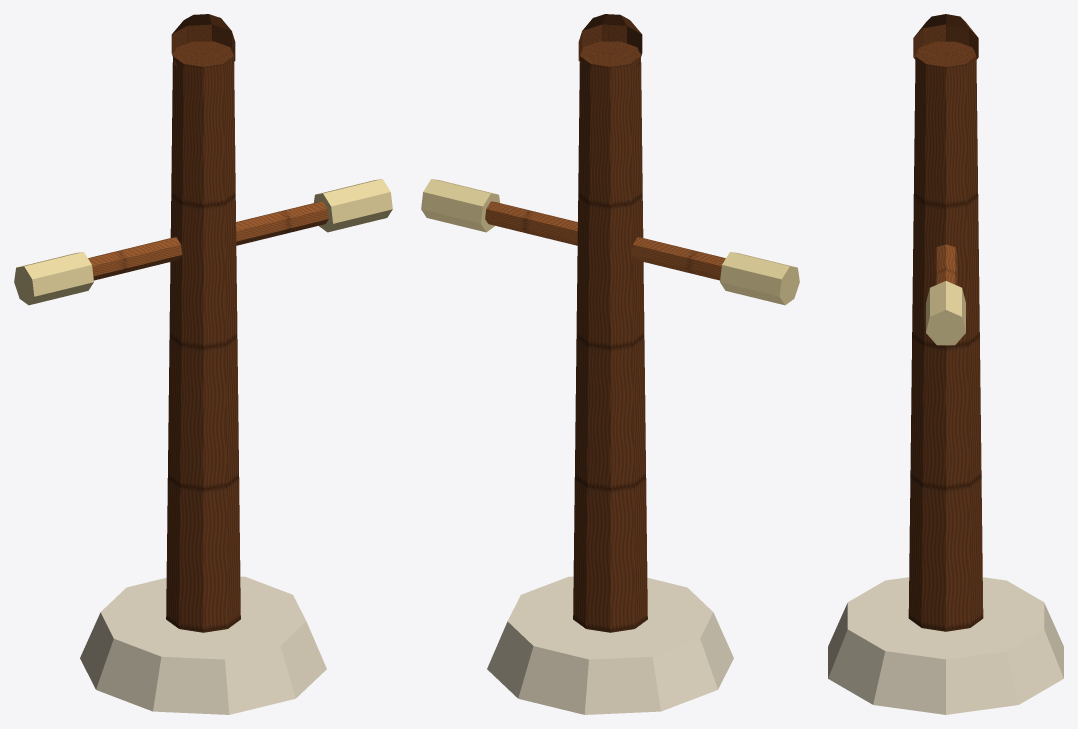
Rendered from legendary-warriors-kit-pell-training-post-fa6e13c9__39217.glb.
The picture shows the model from 3 angles, left to right: view 1: azimuth 30°, elevation 25°; view 2: azimuth 150°, elevation 25°; view 3: azimuth 270°, elevation 25°; orthographic projection.
Parts seen in each view (by area): view 1: pell-training-post, pell-arm/straw, pell-arm/wood; view 2: pell-training-post, pell-arm/straw, pell-arm/wood; view 3: pell-training-post, pell-arm/straw, pell-arm/wood.
Boxes of the visible parts, bbox=[...] form: pell-training-post: bbox=[80, 14, 326, 714]; pell-arm/straw: bbox=[14, 179, 392, 305]; pell-arm/wood: bbox=[88, 201, 328, 280]; pell-training-post: bbox=[487, 14, 733, 714]; pell-arm/straw: bbox=[421, 179, 799, 305]; pell-arm/wood: bbox=[485, 201, 725, 280]; pell-training-post: bbox=[828, 14, 1063, 714]; pell-arm/straw: bbox=[926, 281, 965, 345]; pell-arm/wood: bbox=[934, 244, 957, 285].
Bounding box in the file's own units: 1.2 × 2.07 × 0.6848.
Materials: 4 (2 with a texture image).
